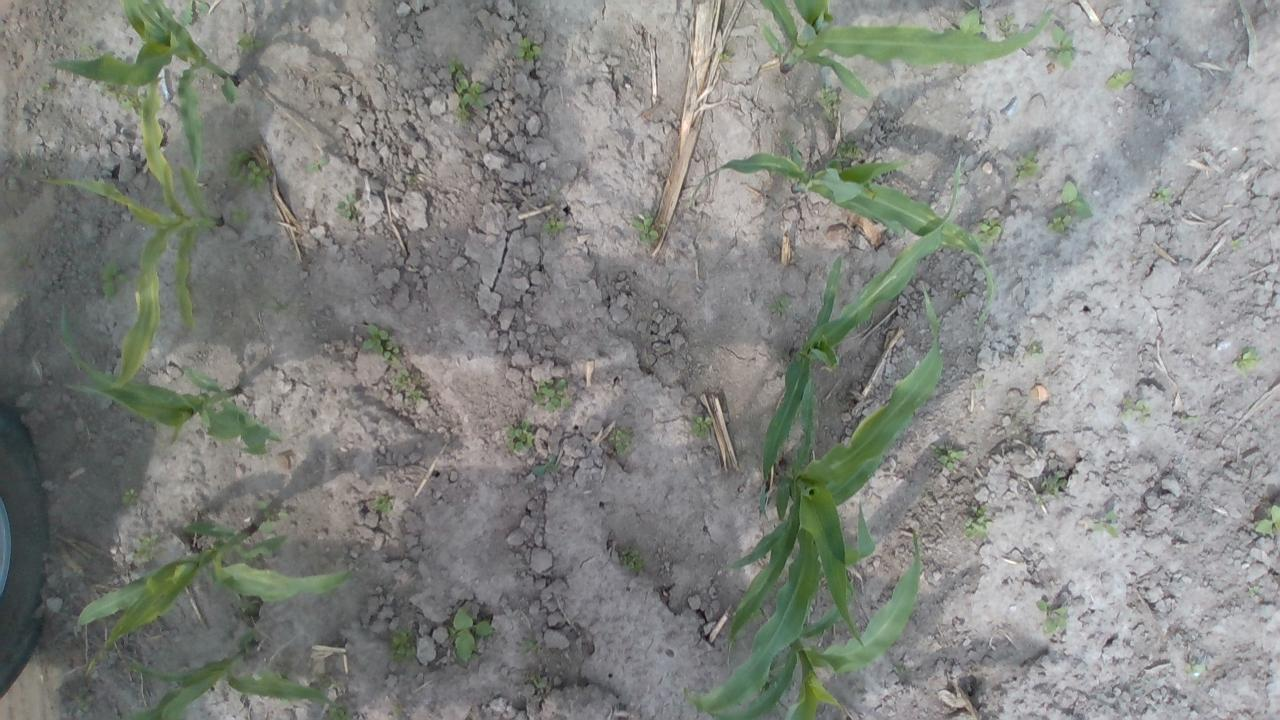Maize: (686, 278, 948, 715), (759, 156, 963, 519), (36, 80, 228, 390), (690, 152, 996, 337), (73, 521, 360, 672), (711, 526, 923, 720), (44, 0, 243, 193), (54, 308, 283, 455), (759, 0, 1056, 103), (112, 652, 344, 720)
Weeds: (448, 608, 496, 666), (1047, 22, 1077, 66), (1118, 390, 1153, 424), (1062, 180, 1093, 217), (534, 376, 566, 410), (389, 373, 422, 404), (1037, 601, 1068, 633), (99, 256, 125, 294), (1011, 150, 1043, 180), (456, 76, 485, 108), (505, 420, 533, 453), (34, 588, 64, 618), (103, 84, 139, 109), (135, 534, 167, 562), (933, 442, 967, 468), (965, 504, 990, 539), (245, 157, 271, 189), (629, 214, 659, 241), (1255, 502, 1280, 534), (180, 0, 210, 26), (363, 325, 389, 352), (333, 192, 359, 218), (602, 430, 632, 452), (389, 630, 411, 660), (957, 6, 980, 34), (534, 454, 555, 484), (618, 548, 643, 573), (514, 38, 541, 61), (975, 219, 1002, 241), (302, 156, 330, 176), (994, 12, 1018, 34), (1100, 509, 1118, 538), (818, 85, 838, 110), (768, 296, 790, 318), (1107, 70, 1131, 90), (514, 636, 540, 654), (1236, 350, 1258, 371), (236, 32, 255, 56), (1042, 474, 1064, 494), (544, 214, 564, 236), (228, 150, 246, 174), (371, 492, 392, 511), (1152, 188, 1172, 207), (1047, 216, 1071, 231), (694, 417, 712, 436), (1031, 340, 1048, 358), (77, 40, 96, 56), (273, 298, 291, 314), (327, 708, 351, 720), (448, 54, 460, 74), (839, 143, 856, 157), (1184, 660, 1200, 674), (124, 488, 138, 503), (383, 346, 398, 360), (319, 674, 333, 688), (230, 209, 248, 219), (1248, 582, 1258, 598), (39, 80, 54, 90), (454, 108, 468, 118), (718, 52, 732, 62), (256, 501, 268, 510)
